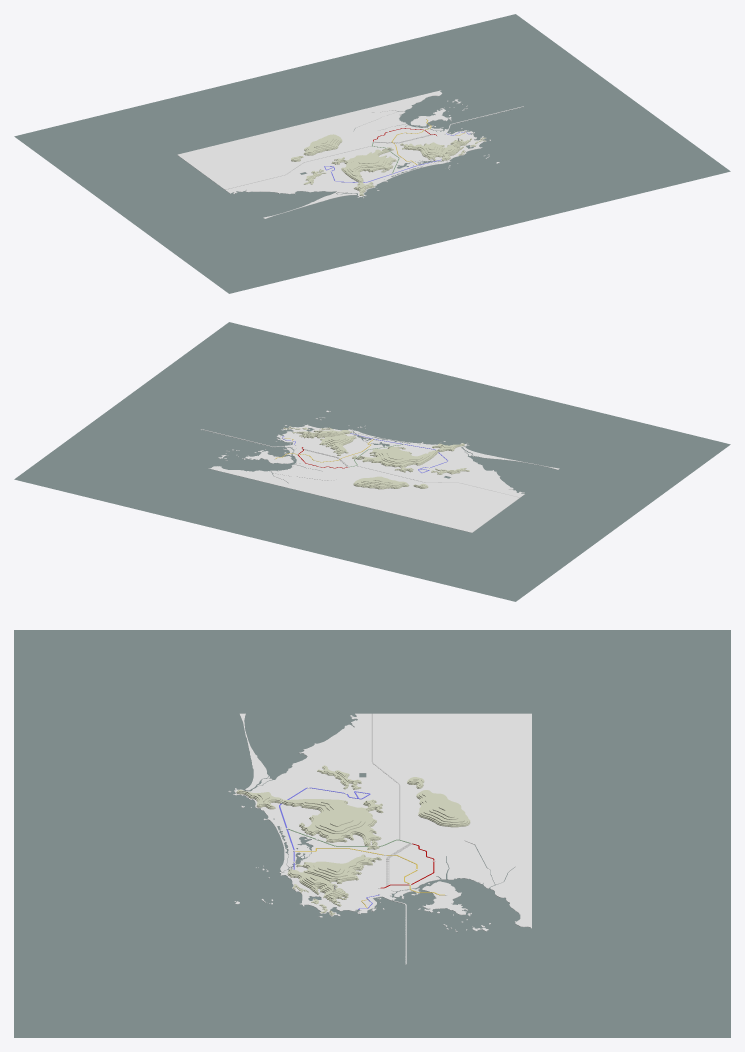
The model's file is Rio_r01.glb.
The picture shows the model from 3 angles, top to bottom: view 1: azimuth 30°, elevation 25°; view 2: azimuth 150°, elevation 25°; view 3: azimuth 270°, elevation 25°; orthographic projection. The views are drawn at different scales.
Parts seen in each view (by area): view 1: 33; view 2: 33; view 3: 33.
Boxes of the visible parts, left/top/right/bottom form: 33: left=14, top=14, right=730, bottom=293; 33: left=14, top=322, right=730, bottom=601; 33: left=14, top=630, right=730, bottom=1037.
Bounding box in the file's own units: 12.13 × 0.141 × 9.01.
